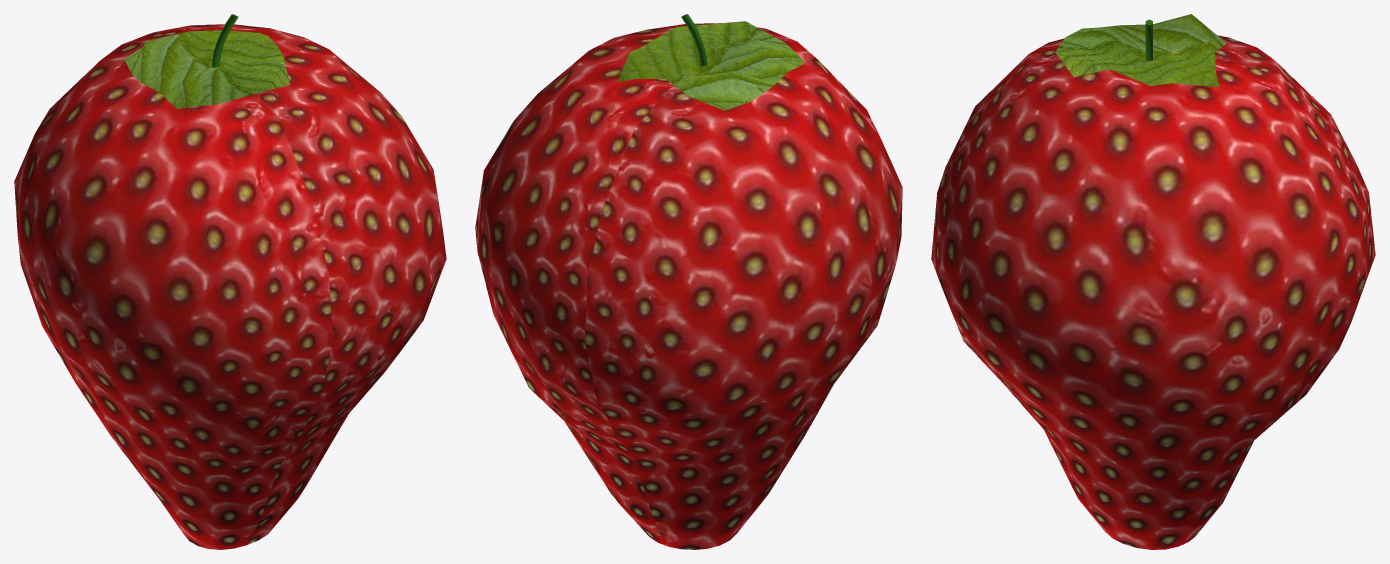
Rendered from strawberry fbx export.FBX.
The picture shows the model from 3 angles, left to right: view 1: azimuth 30°, elevation 25°; view 2: azimuth 150°, elevation 25°; view 3: azimuth 270°, elevation 25°; orthographic projection.
Parts seen in each view (by area): view 1: strawberry; view 2: strawberry; view 3: strawberry.
Boxes of the visible parts, x1,y1,x2,y2 form: strawberry: [14, 14, 446, 549]; strawberry: [475, 14, 902, 549]; strawberry: [931, 14, 1375, 549].
Bounding box in the file's own units: 3.81 × 5.15 × 3.96.
